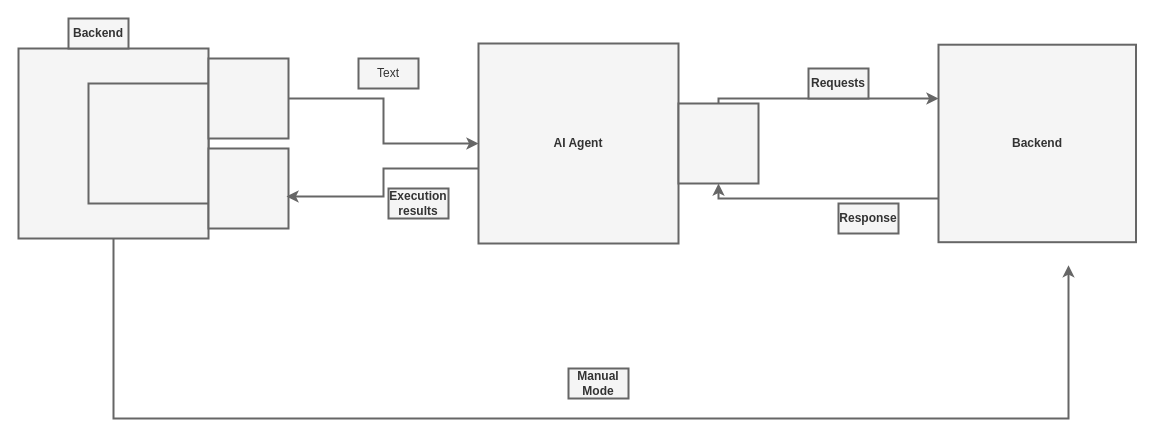
This 1154x444 diagram has some shape labels left out. Each missing label, with the centre of its shape:
AI Mode: [148,143]
STT: [248,98]
TTS: [248,188]
Util Functions: [718,143]
